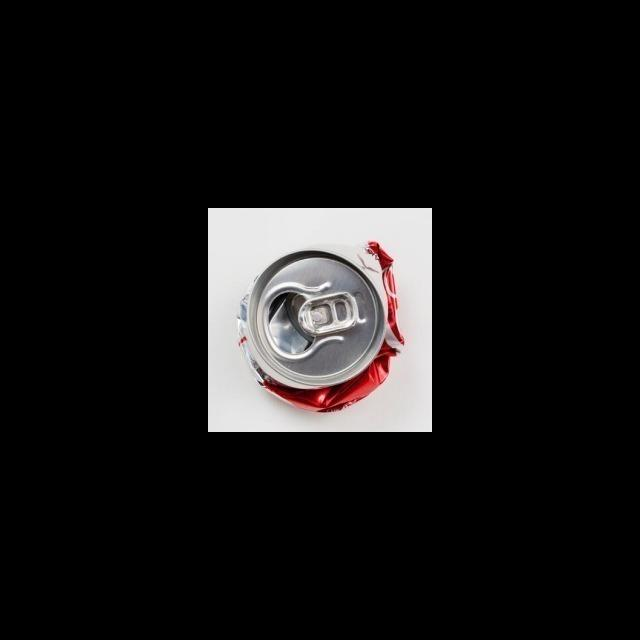metal: (234, 240, 409, 418)
